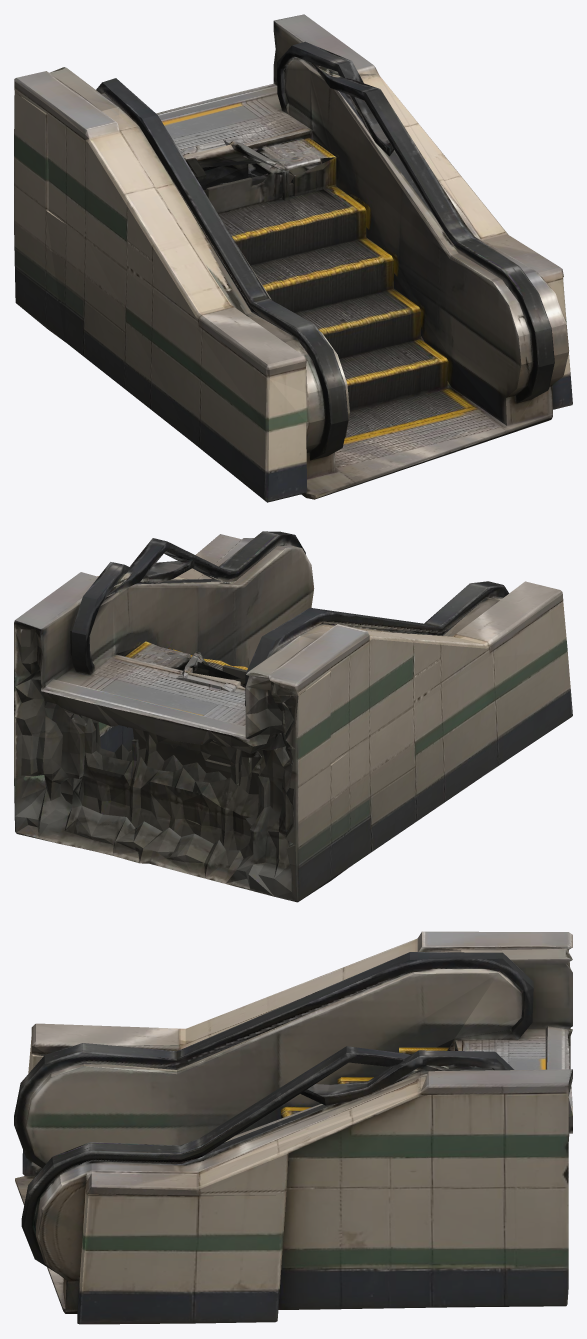
File: decor_5.fbx
The picture shows the model from 3 angles, top to bottom: view 1: azimuth 30°, elevation 25°; view 2: azimuth 150°, elevation 25°; view 3: azimuth 270°, elevation 25°; orthographic projection. The views are drawn at different scales.
Parts seen in each view (by area): view 1: decor_5; view 2: decor_5; view 3: decor_5.
Boxes of the visible parts, left/top/right/bottom form: decor_5: left=14, top=14, right=572, bottom=502; decor_5: left=14, top=531, right=572, bottom=902; decor_5: left=14, top=931, right=572, bottom=1324.
Bounding box in the file's own units: 1.3 × 0.8895 × 1.84.
1 material, 1 textured.
